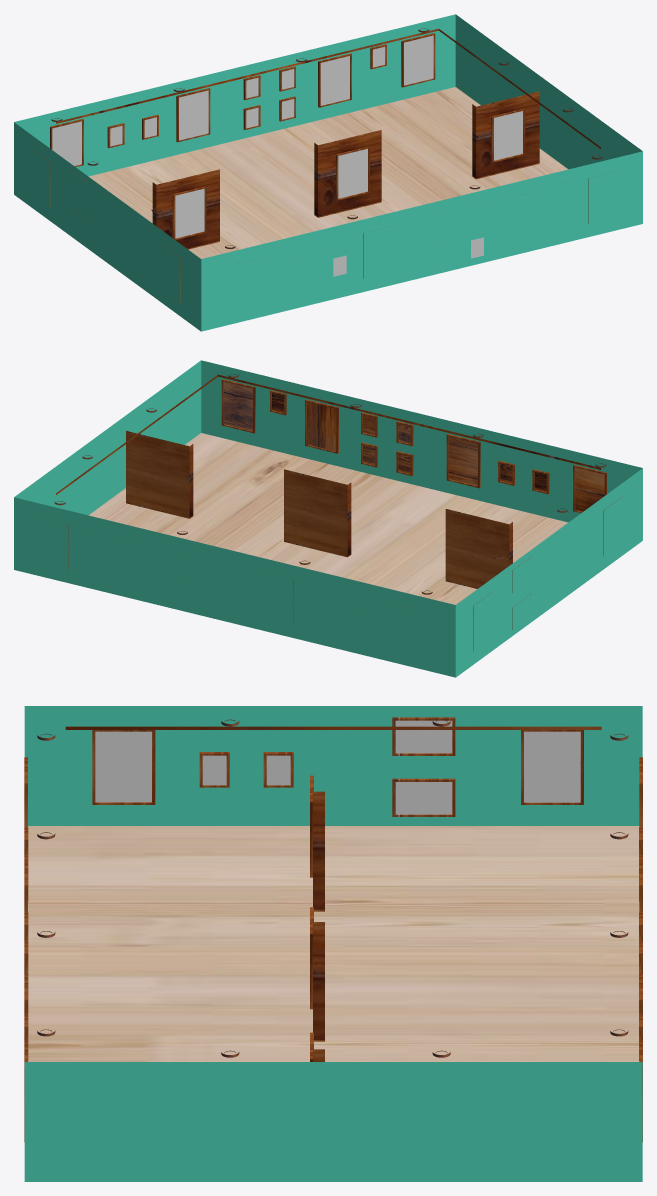
3 renders of one model, top to bottom at view 1: azimuth 30°, elevation 25°; view 2: azimuth 150°, elevation 25°; view 3: azimuth 270°, elevation 25°, orthographic. The views are drawn at different scales.
Visible parts, largest first — view 1: Parede, PLANE_001, PLANE_008, PLANE_003, PLANE_031, PLANE_030, PLANE_029, PLANE_011; view 2: Parede; view 3: Parede, PLANE_012, PLANE_017, PLANE_014, PLANE_013, Lights, PLANE_015, PLANE_016.
Boxes of the visible parts, x1,y1,x2,y2 form: Parede: [14, 14, 642, 331]; PLANE_001: [404, 35, 433, 85]; PLANE_008: [179, 90, 208, 140]; PLANE_003: [320, 56, 349, 105]; PLANE_031: [175, 188, 204, 238]; PLANE_030: [338, 149, 367, 198]; PLANE_029: [494, 111, 522, 160]; PLANE_011: [52, 121, 81, 165]; Parede: [14, 360, 642, 677]; Parede: [24, 706, 642, 1181]; PLANE_012: [524, 731, 580, 802]; PLANE_017: [95, 731, 151, 802]; PLANE_014: [395, 782, 452, 814]; PLANE_013: [395, 720, 452, 753]; Lights: [37, 719, 628, 1057]; PLANE_015: [266, 755, 290, 785]; PLANE_016: [202, 755, 226, 785].
Bounding box in the file's own units: 2764 × 446 × 2063.
3 materials, 2 textured.
